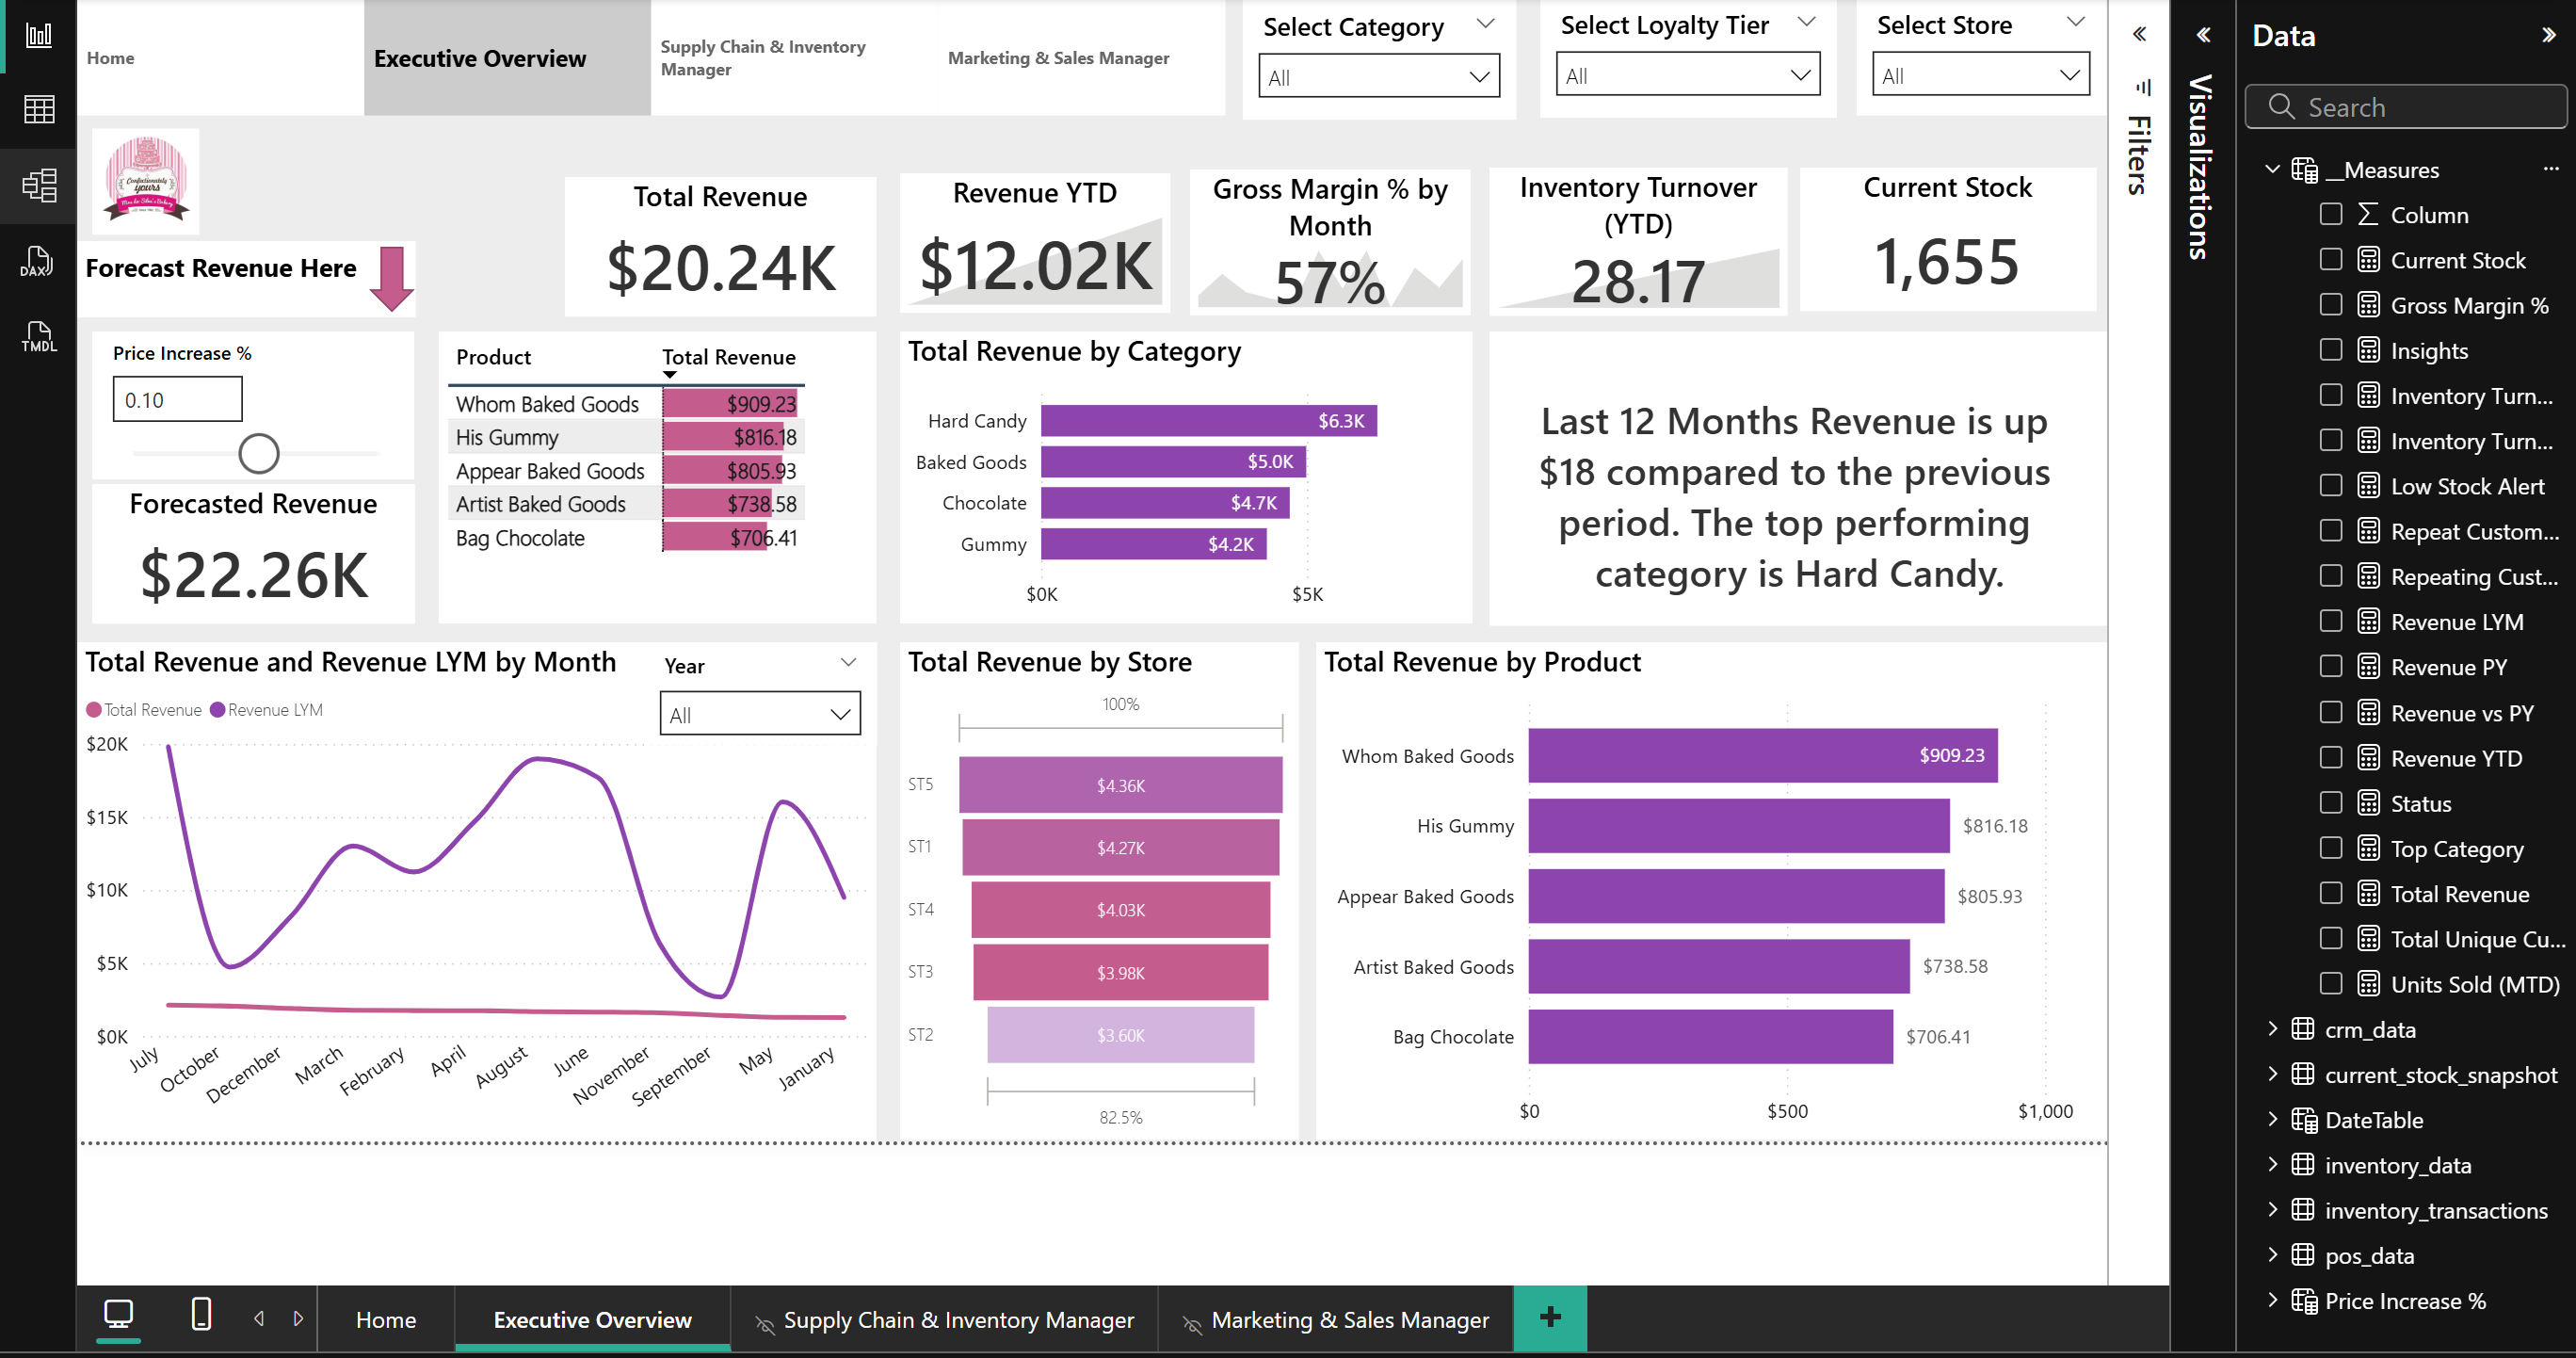

The dashboard page shown, as its layout file describes it:
{"tool":"powerbi","page":{"name":"Executive Overview","canvas":[1280,720],"ordinal":1},"visuals":[{"type":"card","title":"Current Stock","fields":{"Values":["Sum(current_stock_snapshot.current_stock)"]},"box":[1086.4,107.1,186.8,90.6],"z":0},{"type":"card","title":"Total Revenue","fields":{"Values":["__Measures.Total Revenue"]},"box":[307.6,112.6,196.4,87.9],"z":1000},{"type":"lineChart","fields":{"Y":["__Measures.Total Revenue","__Measures.Revenue LYM"],"Category":["DateTable.Month"]},"box":[0,406.5,504,315.9],"z":2000},{"type":"kpi","title":"Revenue YTD","fields":{"Indicator":["__Measures.Revenue YTD"],"TrendLine":["DateTable.Year"]},"box":[519.1,109.9,170.3,87.9],"z":3000},{"type":"barChart","title":"Total Revenue by Product","fields":{"Category":["inventory_data.product_name"],"Y":["Sum(pos_data.revenue)"]},"box":[781.5,406.5,499.9,313.1],"z":4000},{"type":"kpi","fields":{"Indicator":["__Measures.Gross Margin %"],"TrendLine":["DateTable.Month"]},"box":[701.8,108.5,177.2,92],"z":5000},{"type":"barChart","title":"Total Revenue by Category","fields":{"Category":["inventory_data.category"],"Y":["Sum(pos_data.revenue)"]},"box":[519.1,210.1,361.2,184],"z":6000},{"type":"funnel","title":"Total Revenue by Store","fields":{"Y":["Sum(pos_data.revenue)"],"Category":["pos_data.Store"]},"box":[519.1,406.5,251.3,313.1],"z":7000},{"type":"tableEx","fields":{"Values":["inventory_data.product_name","Sum(pos_data.revenue)"]},"box":[228,210.1,276.1,184],"z":8000},{"type":"slicer","fields":{"Values":["DateTable.Year"]},"box":[357.1,406.5,147,64.5],"z":9000},{"type":"slicer","fields":{"Values":["inventory_data.category"]},"box":[735,1.5,172.3,75.7],"z":10000},{"type":"slicer","fields":{"Values":["crm_data.loyalty_tier"]},"box":[922.1,0,187.1,75.7],"z":11000},{"type":"slicer","fields":{"Values":["pos_data.store_id"]},"box":[1122.6,0,157.4,74.2],"z":12000},{"type":"kpi","title":"Inventory Turnover (YTD)","fields":{"Indicator":["__Measures.Inventory Turnover (LYM)"],"TrendLine":["DateTable.Year"]},"box":[890,107.1,188.2,93.4],"z":13000},{"type":"card","fields":{"Values":["__Measures.Insights"]},"box":[890,210.1,391.4,185.4],"z":14000},{"type":"slicer","fields":{"Values":["Price Increase %.Price Increase %"]},"box":[10,210.2,203.1,93],"z":15000},{"type":"card","title":"Forecasted Revenue ","fields":{"Values":["pos_data.Forecasted Revenue"]},"box":[9.6,306.3,203.3,87.9],"z":16000},{"type":"image","box":[0,77.1,86.7,77.1],"z":17000},{"type":"pageNavigator","box":[0,0,725.1,74.4],"z":18000},{"type":"textbox","box":[0,152.8,213.3,48.2],"z":18001},{"type":"shape","box":[184.4,156.9,28.9,41.3],"z":18002}]}

Visuals, with their boxes on the page's 1280x720 design canvas (x1, y1, x2, y2). These are canvas units, not pixel positions in the 2576x1358 screenshot, which may show the page scaled, cropped or inside an application window:
"Current Stock" card: box(1086, 107, 1273, 198)
"Total Revenue" card: box(308, 113, 504, 200)
lineChart - __Measures.Total Revenue x __Measures.Revenue LYM: box(0, 406, 504, 722)
"Revenue YTD" kpi: box(519, 110, 689, 198)
"Total Revenue by Product" barChart: box(782, 406, 1281, 720)
kpi - __Measures.Gross Margin % x DateTable.Month: box(702, 108, 879, 200)
"Total Revenue by Category" barChart: box(519, 210, 880, 394)
"Total Revenue by Store" funnel: box(519, 406, 770, 720)
tableEx - inventory_data.product_name x Sum(pos_data.revenue): box(228, 210, 504, 394)
slicer - DateTable.Year: box(357, 406, 504, 471)
slicer - inventory_data.category: box(735, 2, 907, 77)
slicer - crm_data.loyalty_tier: box(922, 0, 1109, 76)
slicer - pos_data.store_id: box(1123, 0, 1280, 74)
"Inventory Turnover (YTD)" kpi: box(890, 107, 1078, 200)
card - __Measures.Insights: box(890, 210, 1281, 396)
slicer - Price Increase %.Price Increase %: box(10, 210, 213, 303)
"Forecasted Revenue " card: box(10, 306, 213, 394)
image: box(0, 77, 87, 154)
pageNavigator: box(0, 0, 725, 74)
textbox: box(0, 153, 213, 201)
shape: box(184, 157, 213, 198)
